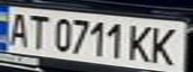0: (48, 15, 72, 53)
1: (103, 19, 127, 60), (87, 18, 109, 57)
7: (66, 16, 90, 55)
A: (3, 9, 33, 47)
K: (145, 24, 184, 66), (124, 21, 157, 63)
T: (24, 11, 51, 50)
